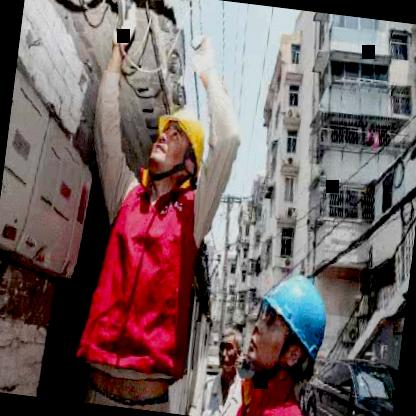helmet: (235, 257, 336, 396), (138, 106, 217, 191)
